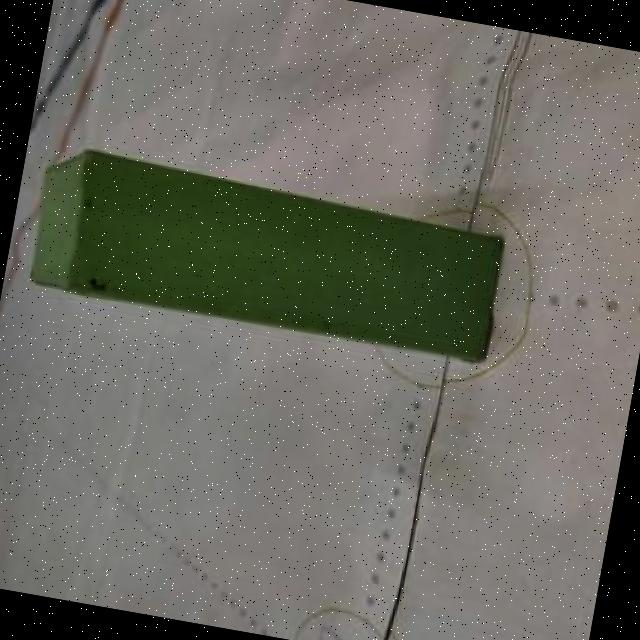greenbox: (26, 140, 508, 370)
